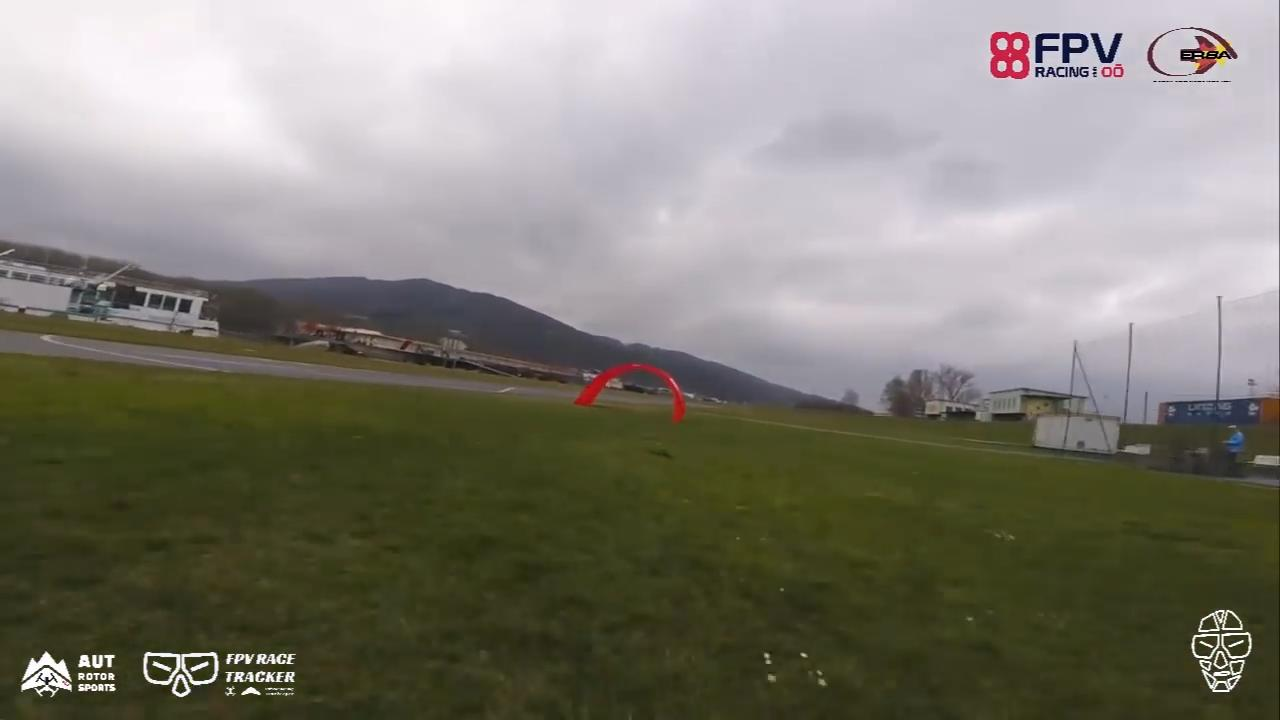gate: (572, 361, 685, 424)
